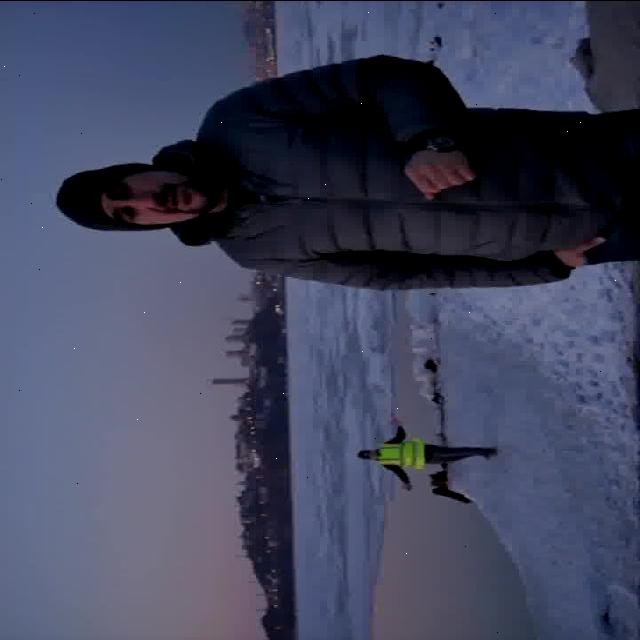Vest: (377, 437, 430, 469)
